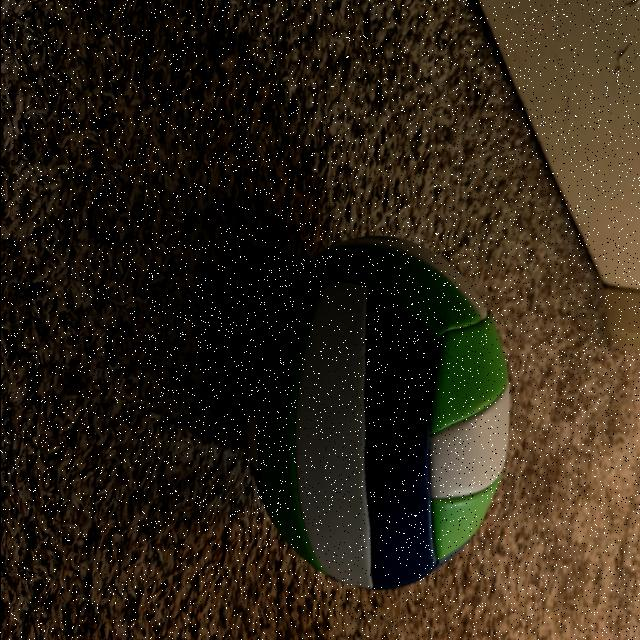ball: (248, 243, 506, 591)
